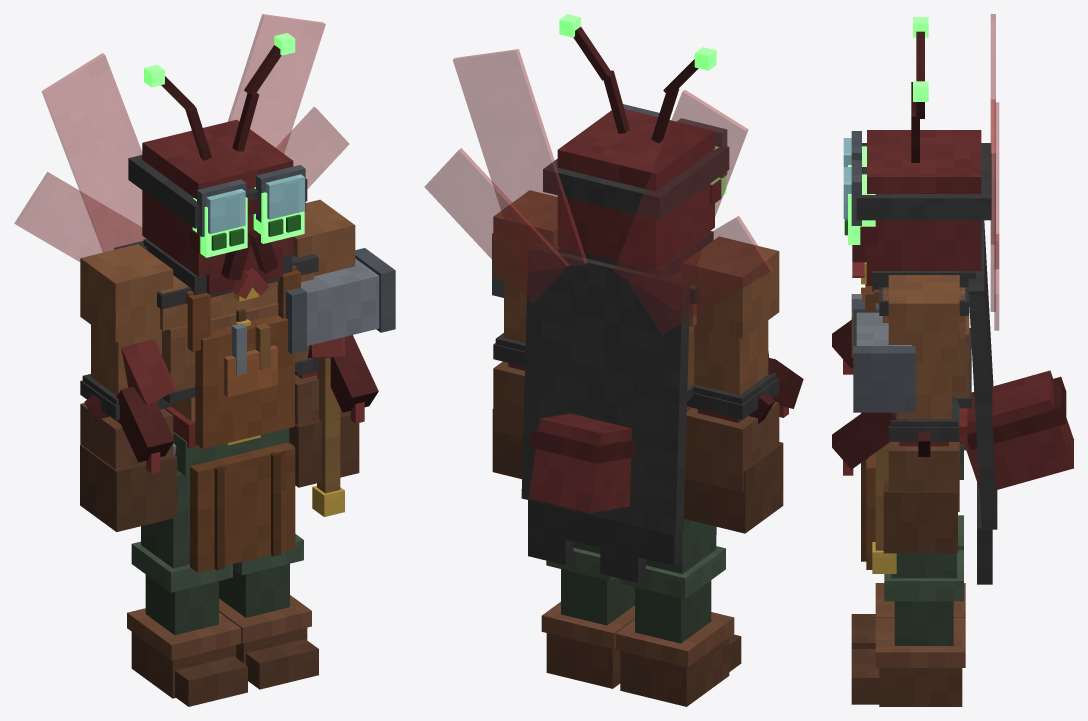
Rendered from insectoid_forgeron.glb.
3 views of the same model, side by side, from view 1: azimuth 30°, elevation 25°; view 2: azimuth 150°, elevation 25°; view 3: azimuth 270°, elevation 25° (orthographic). The views are drawn at different scales.
Visible parts, largest first — view 1: Torso, Head, ArmR, LegR, HandL, LegL, ArmL; view 2: Torso, Head, ArmR, LegR, ArmL, LegL; view 3: Torso, Head, ArmL, LegL, HandL, LegR.
Boxes of the visible parts, x1,y1,x2,y2 form: Torso: (14, 14, 378, 572); Head: (128, 33, 307, 298); ArmR: (80, 244, 177, 531); LegR: (127, 470, 247, 706); HandL: (277, 248, 395, 516); LegL: (219, 442, 318, 689); ArmL: (289, 199, 359, 487); Torso: (424, 49, 803, 582); Head: (543, 14, 729, 269); ArmR: (683, 236, 783, 533); LegR: (615, 519, 741, 706); ArmL: (492, 190, 557, 478); LegL: (541, 541, 634, 688); Torso: (832, 14, 1073, 584); Head: (843, 17, 991, 285); ArmL: (883, 275, 959, 553); LegL: (851, 550, 965, 706); HandL: (853, 302, 915, 573); LegR: (851, 515, 965, 648).
Bounding box in the file's own units: 1.12 × 1.98 × 0.699.
Materials: 38 (38 with a texture image).
